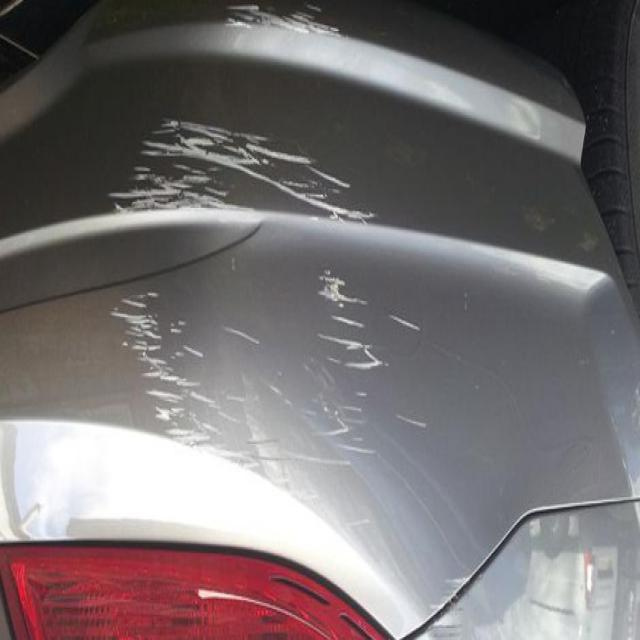scratch: (109, 115, 448, 566), (167, 0, 364, 72)
